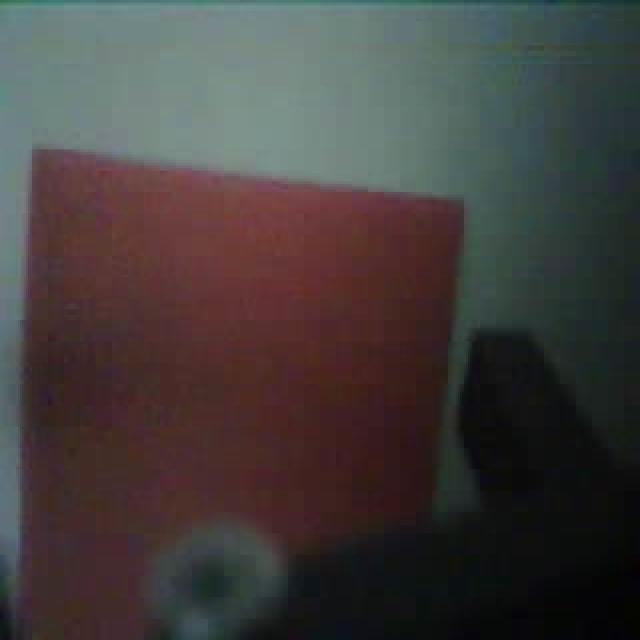red_box: (16, 142, 468, 638)
